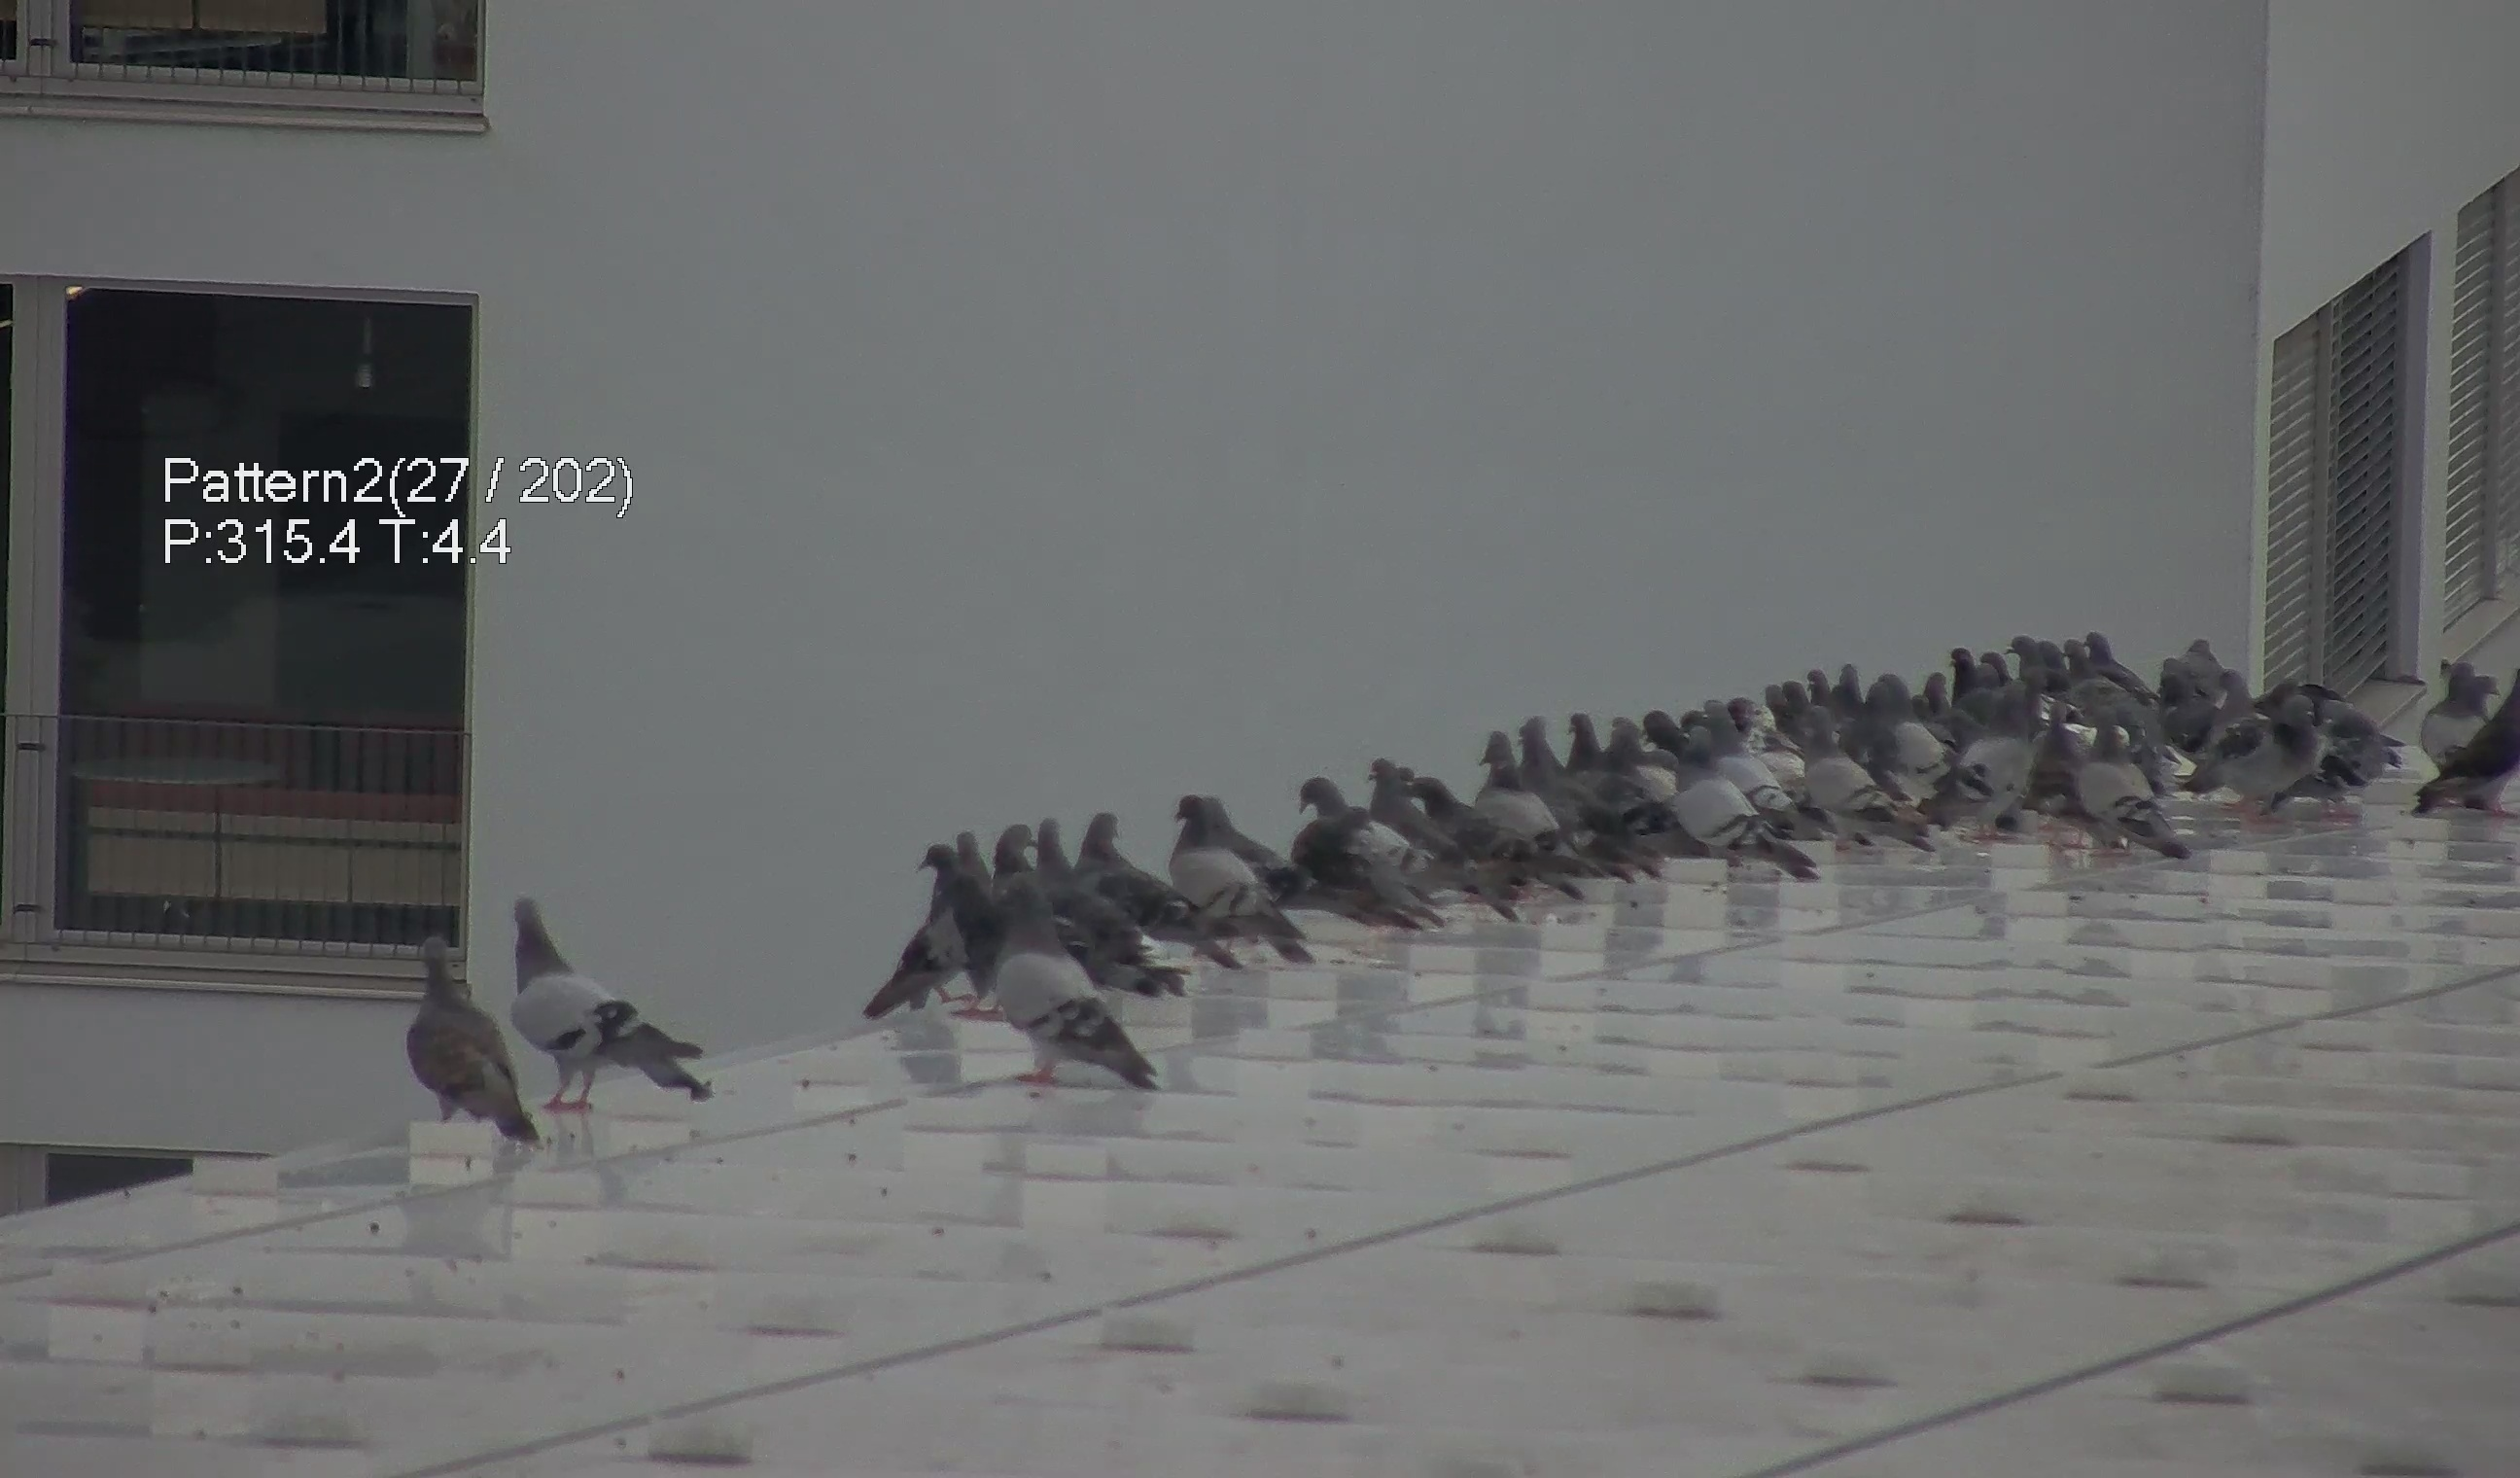Pigeon: (475, 880, 700, 1128), (1001, 885, 1169, 1103), (373, 933, 535, 1151), (1660, 744, 1834, 892), (863, 827, 995, 1015), (1166, 787, 1307, 959), (1468, 721, 1590, 908), (1293, 806, 1449, 934), (1799, 716, 1927, 871), (2089, 709, 2196, 874), (2425, 642, 2520, 827), (1929, 676, 2036, 836), (2200, 706, 2342, 813), (1697, 699, 1808, 836), (2165, 632, 2251, 711), (1365, 753, 1451, 816), (1586, 700, 1664, 762), (1071, 804, 1136, 876), (1526, 718, 1574, 811), (1291, 769, 1363, 827), (2058, 633, 2112, 697), (2017, 621, 2075, 674), (987, 818, 1029, 889), (1943, 640, 2012, 681), (1029, 823, 1069, 880), (1787, 672, 1848, 709)
